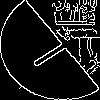T: (25, 25, 87, 77)
